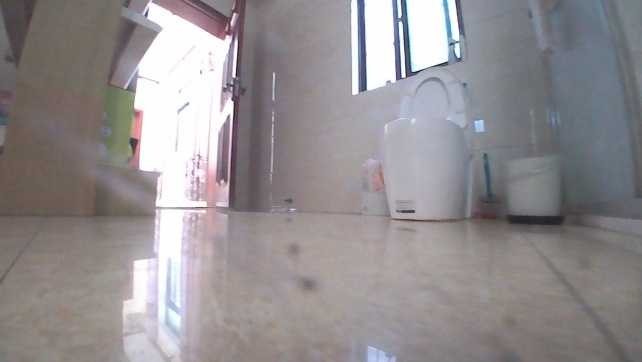door_anno: (200, 1, 248, 208)
toilet: (378, 60, 480, 222)
